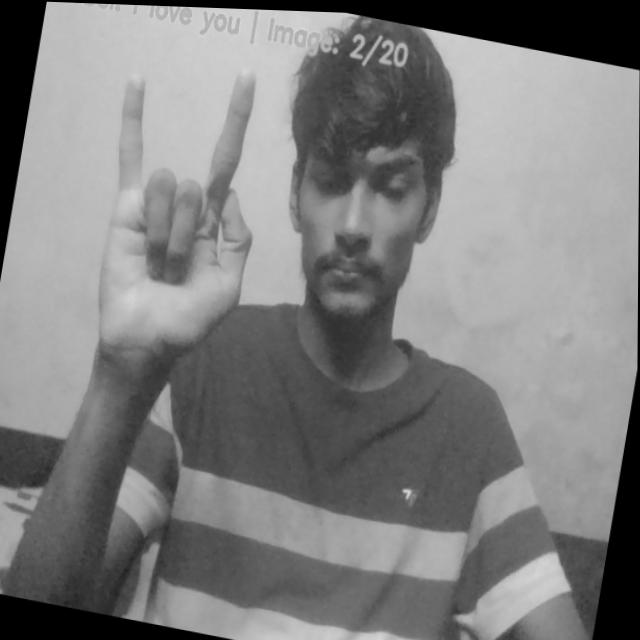I love you: (66, 38, 290, 384)
